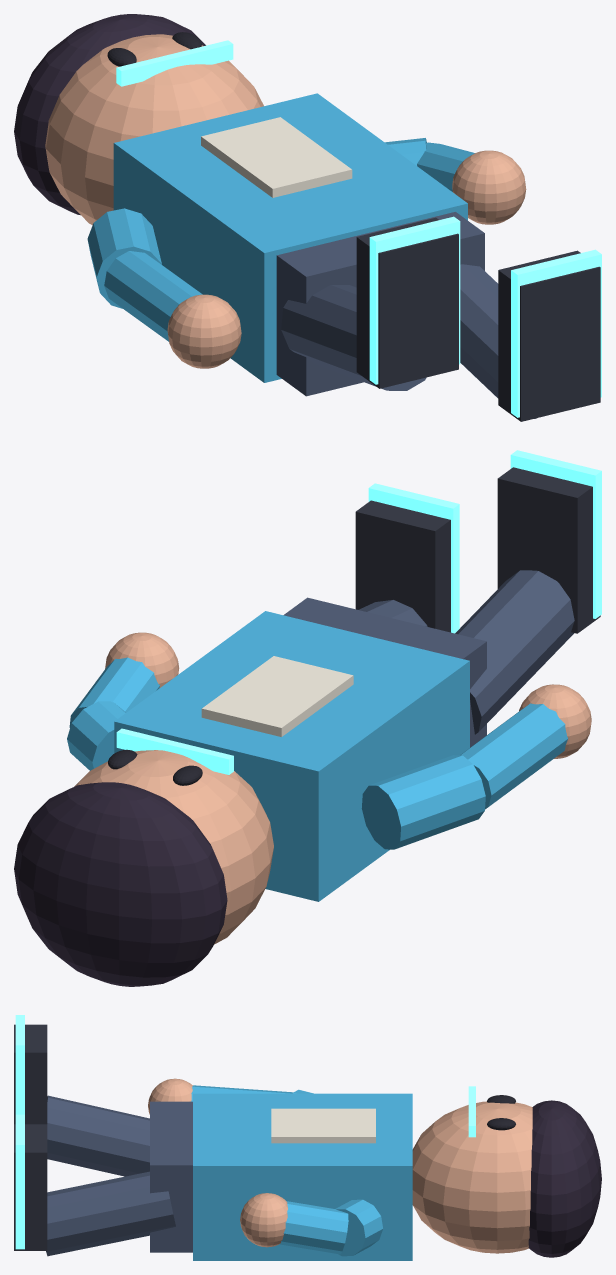
File: runner.glb
3 views of the same model, one above another, from view 1: azimuth 30°, elevation 25°; view 2: azimuth 150°, elevation 25°; view 3: azimuth 270°, elevation 25° (orthographic). The views are drawn at different scales.
Visible parts, largest first — view 1: Torso, Head, ShoeL, ShoeR, HairCap, Pelvis, ShirtFront, LegL, ArmLLower, HandL, LegR, HandR (+6 smaller); view 2: Torso, HairCap, Head, ShoeL, LegL, ShoeR, ArmLUpper, ShirtFront, ArmLLower, Pelvis, SoleL, ArmRLower (+6 smaller); view 3: Torso, Head, HairCap, LegR, LegL, Pelvis, ShirtFront, ShoeR, ArmRLower, ShoeL, HandR, ArmRUpper (+5 smaller).
Part boxes in pixels (x1,y1,x2,y2): Torso: (113,93,467,382); Head: (45,34,263,224); ShoeL: (356,217,458,388); ShoeR: (498,250,600,421); HairCap: (14,14,205,215); Pelvis: (276,212,484,396); ShirtFront: (201,117,352,197); LegL: (281,285,426,390); ArmLLower: (104,251,202,341); HandL: (167,294,241,368); LegR: (460,264,536,418); HandR: (452,150,526,224); Torso: (114,611,469,901); HairCap: (14,782,227,986); Head: (74,750,273,944); ShoeL: (497,467,600,633); LegL: (455,570,574,734); ShoeR: (355,500,450,632); ArmLUpper: (361,755,485,849); ShirtFront: (201,656,353,736); ArmLLower: (460,703,568,809); Pelvis: (283,597,486,747); SoleL: (510,450,601,618); ArmRLower: (69,657,159,727); Torso: (193,1093,412,1260); Head: (412,1101,532,1253); HairCap: (528,1100,601,1257); LegR: (46,1171,175,1256); LegL: (47,1095,149,1176); Pelvis: (150,1101,192,1252); ShirtFront: (271,1108,375,1143); ShoeR: (14,1124,47,1250); ArmRLower: (279,1201,348,1254); ShoeL: (14,1024,47,1124); HandR: (240,1193,287,1247); ArmRUpper: (335,1199,383,1256).
Bounding box in the file's own units: 1.66 × 1.03 × 2.81.
